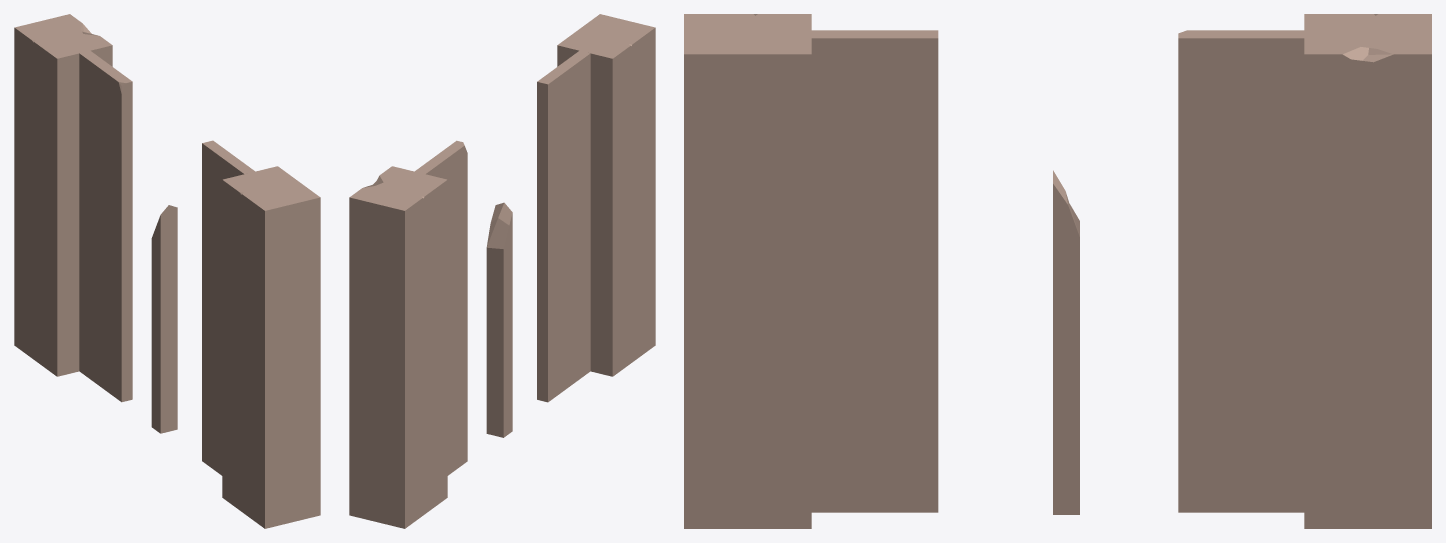
Rendered from Nivel3.fbx.
The picture shows the model from 3 angles, left to right: view 1: azimuth 30°, elevation 25°; view 2: azimuth 150°, elevation 25°; view 3: azimuth 270°, elevation 25°; orthographic projection. The views are drawn at different scales.
Parts seen in each view (by area): view 1: Plataforma-M, Plataforma-M.001, Cubo.009, Cubo.008, Cubo.010; view 2: Plataforma-M.001, Plataforma-M, Cubo.008, Cubo.009, Cubo.010; view 3: Plataforma-M, Plataforma-M.001, Cubo.008, Cubo.009, Cubo.010.
Part boxes in pixels (<box>): Plataforma-M: <box>222,166,320,528</box>; Plataforma-M.001: <box>14,14,112,376</box>; Cubo.009: <box>79,50,132,402</box>; Cubo.008: <box>202,140,254,475</box>; Cubo.010: <box>151,205,177,433</box>; Plataforma-M.001: <box>349,166,447,528</box>; Plataforma-M: <box>557,14,655,376</box>; Cubo.008: <box>537,50,590,402</box>; Cubo.009: <box>415,140,467,475</box>; Cubo.010: <box>486,202,512,437</box>; Plataforma-M: <box>684,14,811,528</box>; Plataforma-M.001: <box>1304,14,1431,528</box>; Cubo.008: <box>811,30,938,512</box>; Cubo.009: <box>1178,30,1304,512</box>; Cubo.010: <box>1053,170,1079,514</box>.
Size of the model in its own units: 1215 by 6652 by 9502.
